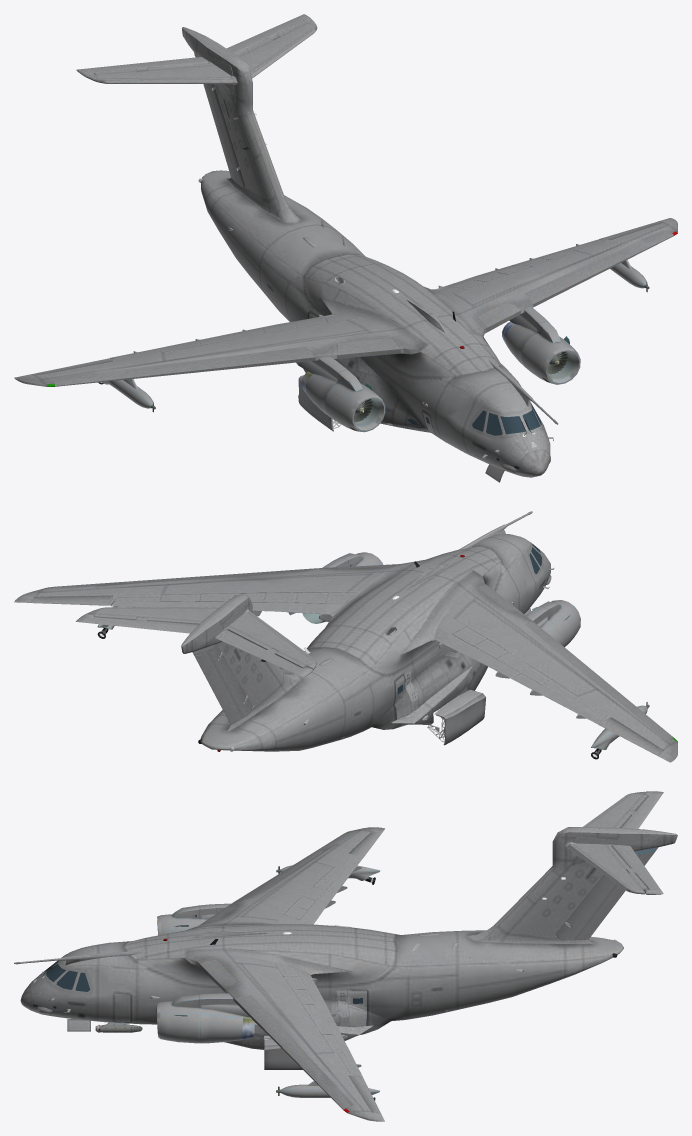
File: kc390-training.glb
3 renders of one model, top to bottom at view 1: azimuth 30°, elevation 25°; view 2: azimuth 150°, elevation 25°; view 3: azimuth 270°, elevation 25°, orthographic. The views are drawn at different scales.
Parts seen in each view (by area): view 1: KC390_fuzelagem__0, KC390.016_fuzelagem__0, KC390.002_turbina_0, KC390.018_fuzelagem__0, KC390.001_part_asas_0, KC390.017_fuzelagem__0, KC390.015_fuzelagem__0, KC390.019_fuzelagem__0, KC390.012_Glass_0; view 2: KC390_fuzelagem__0, KC390.016_fuzelagem__0, KC390.017_fuzelagem__0, KC390.018_fuzelagem__0, KC390.015_fuzelagem__0, KC390.019_fuzelagem__0, KC390.002_turbina_0, KC390.001_part_asas_0, KC390.014_interior_c_0; view 3: KC390_fuzelagem__0, KC390.018_fuzelagem__0, KC390.017_fuzelagem__0, KC390.016_fuzelagem__0, KC390.002_turbina_0, KC390.015_fuzelagem__0, KC390.001_part_asas_0, KC390.019_fuzelagem__0, KC390.012_Glass_0.
Boxes of the visible parts, x1,y1,x2,y2 form: KC390_fuzelagem__0: (201,170,558,482); KC390.016_fuzelagem__0: (14,297,429,386); KC390.002_turbina_0: (102,260,647,432); KC390.018_fuzelagem__0: (182,27,300,223); KC390.001_part_asas_0: (55,230,674,386); KC390.017_fuzelagem__0: (423,218,677,336); KC390.015_fuzelagem__0: (76,14,317,84); KC390.019_fuzelagem__0: (298,357,431,432); KC390.012_Glass_0: (407,403,541,468); KC390_fuzelagem__0: (200,511,554,751); KC390.016_fuzelagem__0: (399,569,677,762); KC390.017_fuzelagem__0: (14,559,429,627); KC390.018_fuzelagem__0: (181,594,300,732); KC390.015_fuzelagem__0: (76,607,316,677); KC390.019_fuzelagem__0: (372,651,487,745); KC390.002_turbina_0: (97,552,647,749); KC390.001_part_asas_0: (55,564,673,737); KC390.014_interior_c_0: (30,592,677,761); KC390_fuzelagem__0: (14,924,623,1031); KC390.018_fuzelagem__0: (467,827,677,943); KC390.017_fuzelagem__0: (185,948,384,1121); KC390.016_fuzelagem__0: (186,827,384,930); KC390.002_turbina_0: (157,865,380,1097); KC390.015_fuzelagem__0: (567,791,663,894); KC390.001_part_asas_0: (199,833,353,1109); KC390.019_fuzelagem__0: (224,998,405,1069); KC390.012_Glass_0: (33,960,362,1012).
Bounding box in the file's own units: 34.87 × 11.59 × 33.35.
Materials: 13 (10 with a texture image).
